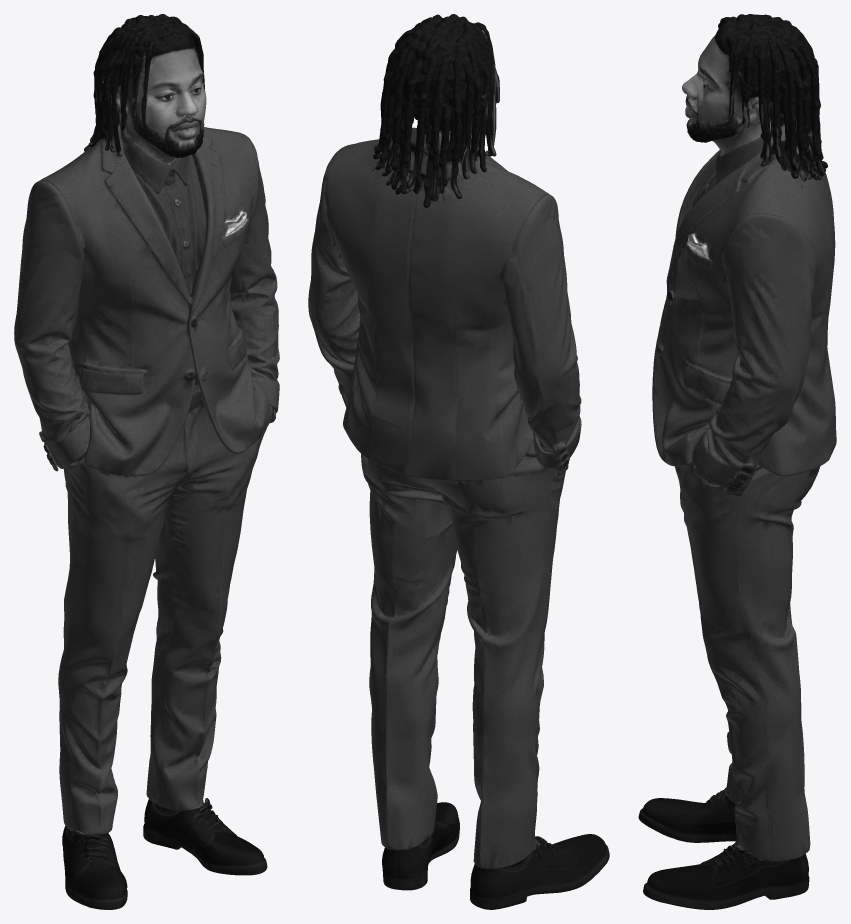
The model's file is marquis-v9.glb.
3 renders of one model, left to right at view 1: azimuth 30°, elevation 25°; view 2: azimuth 150°, elevation 25°; view 3: azimuth 270°, elevation 25°, orthographic. The views are drawn at different scales.
Parts seen in each view (by area): view 1: mesh_node; view 2: mesh_node; view 3: mesh_node.
Boxes of the visible parts, <box> form: mesh_node: <box>14,14,279,909</box>; mesh_node: <box>308,14,609,909</box>; mesh_node: <box>638,14,836,909</box>.
Size of the model in its own units: 0.6007 by 1.9 by 0.3984.
1 material, 1 textured.
